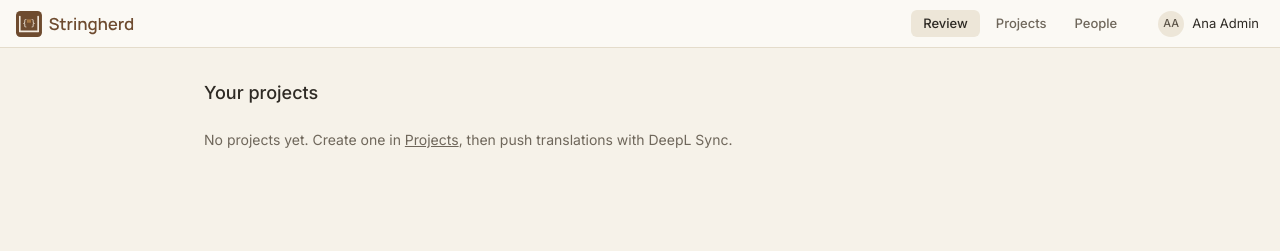
project administration › lists projects with languages and keys, reachable from the top bar
Click the link "Projects" next to "Review" at (1021, 23), box [996, 15, 1046, 31]
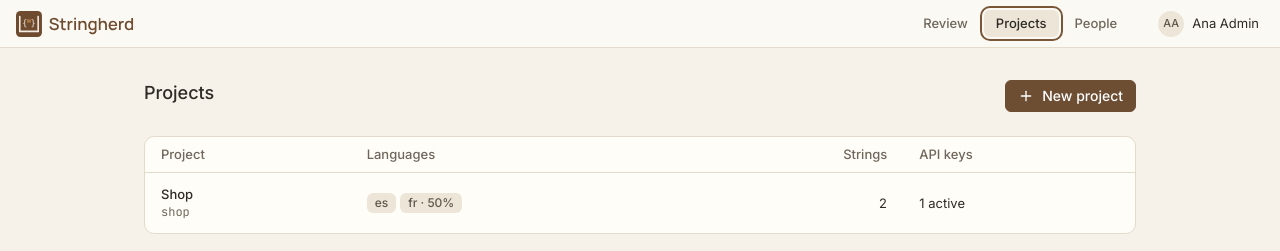
Expected: the text "shop" is shown, [161, 204, 190, 220]
Expected: the text "fr · 50%" is shown, [400, 193, 462, 213]
Expected: the text "1 active" is shown, [903, 172, 1135, 233]
